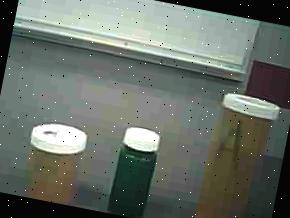Bottle A: (184, 84, 283, 218)
Bottle B: (12, 115, 95, 207)
Bottle C: (95, 118, 172, 218)
